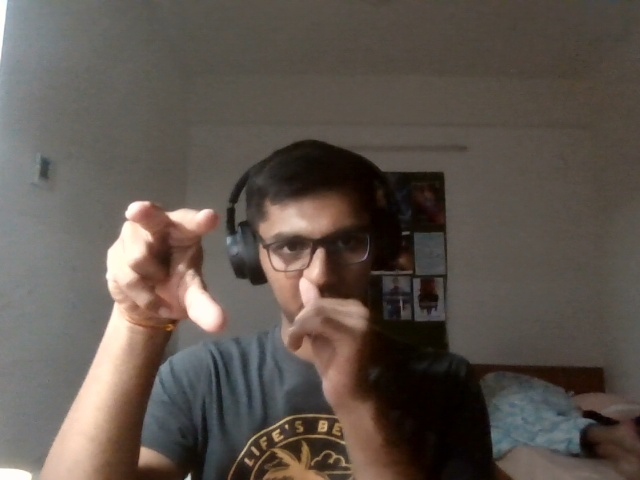no: (94, 186, 237, 347)
